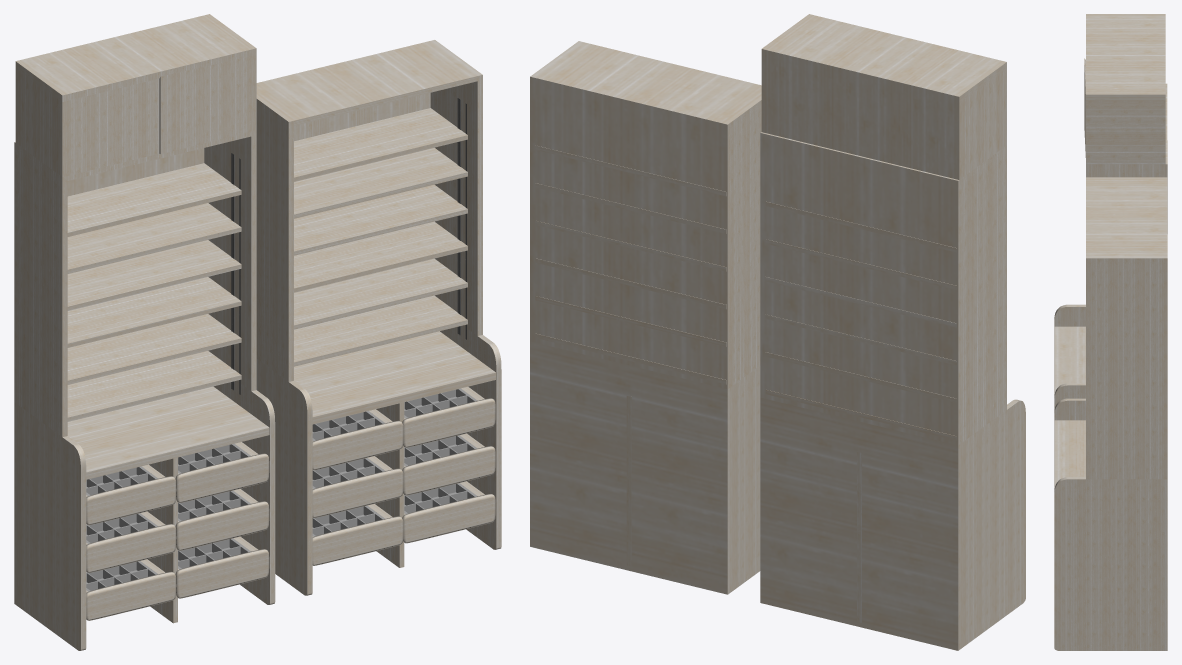
Rendered from PharmacyShelf.fbx.
3 views of the same model, side by side, from view 1: azimuth 30°, elevation 25°; view 2: azimuth 150°, elevation 25°; view 3: azimuth 270°, elevation 25° (orthographic). The views are drawn at different scales.
Visible parts, largest first — view 1: Shelf1, Shelf, BottomDrawer01 (×4), MidDrawer01 (×4), TopDrawer01 (×4), shelf_metal_support02, shelf_metal_support01; view 2: Shelf1, Shelf; view 3: Shelf, Shelf1.
Part boxes in pixels (box(x1,y1,x2,y2)): Shelf1: box(14, 14, 275, 650); Shelf: box(256, 40, 501, 595); BottomDrawer01 (×4): box(86, 481, 495, 620); MidDrawer01 (×4): box(86, 433, 495, 572); TopDrawer01 (×4): box(86, 387, 495, 525); shelf_metal_support02: box(231, 153, 240, 394); shelf_metal_support01: box(457, 98, 466, 339); Shelf1: box(760, 14, 1025, 650); Shelf: box(530, 41, 761, 594); Shelf: box(1054, 177, 1167, 650); Shelf1: box(1054, 14, 1167, 410).
Size of the model in its own units: 230 by 285 by 63.29.
Materials: 4 (3 with a texture image).
